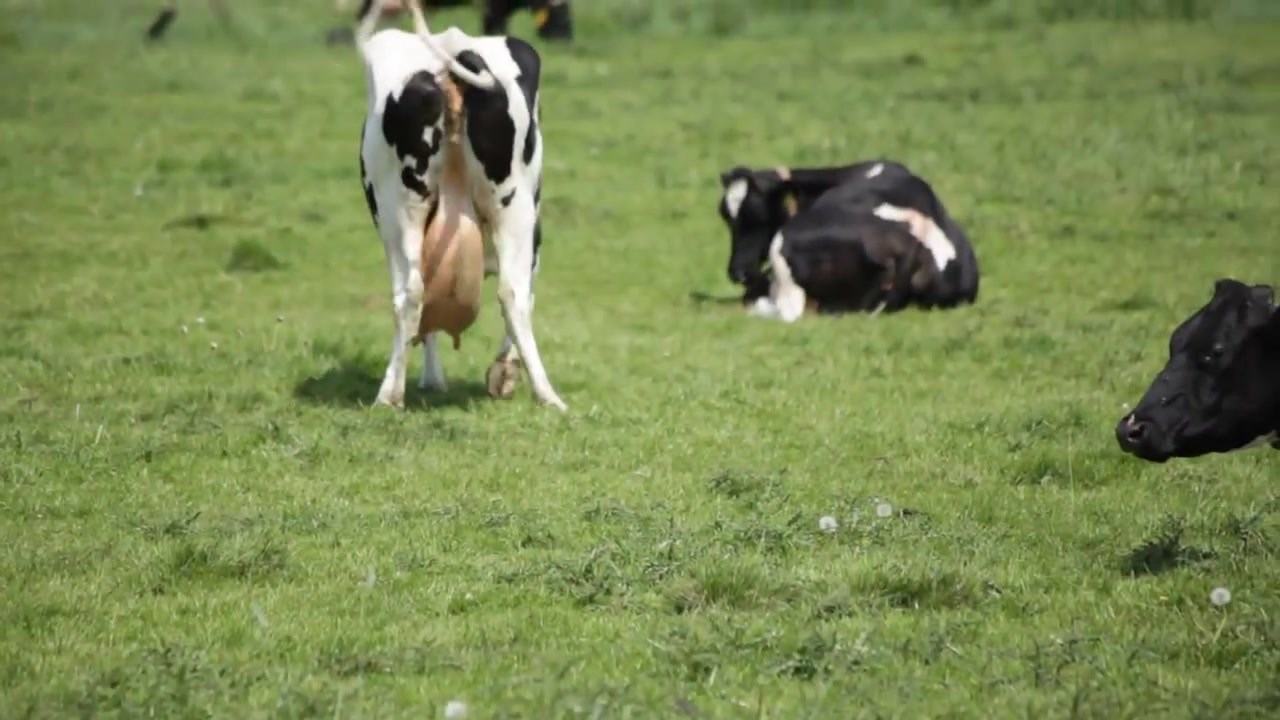cow: (353, 5, 572, 414)
